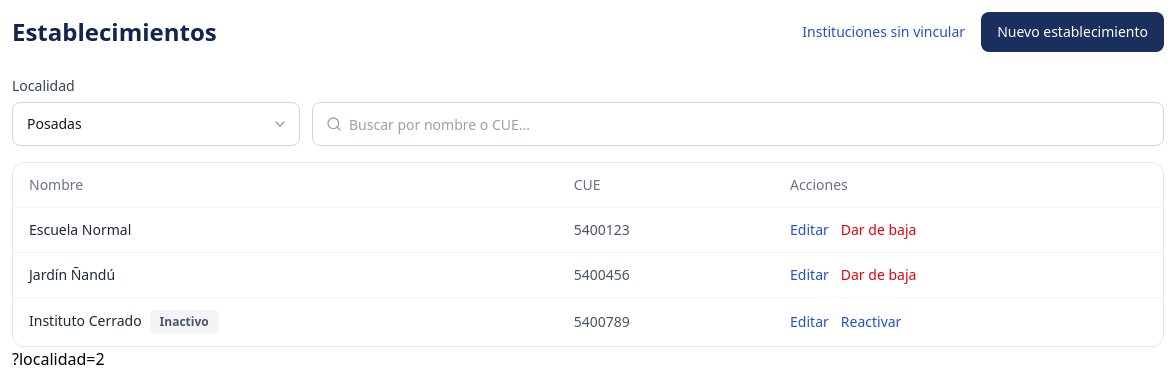
Test: EstablecimientosPage: lista (criterio 7) › busca por nombre sin distinguir mayúsculas ni tildes
Type "NANDU" into the field labelled "Buscar por nombre o CUE". click: point(738, 124)
box: [312,102,1164,146]
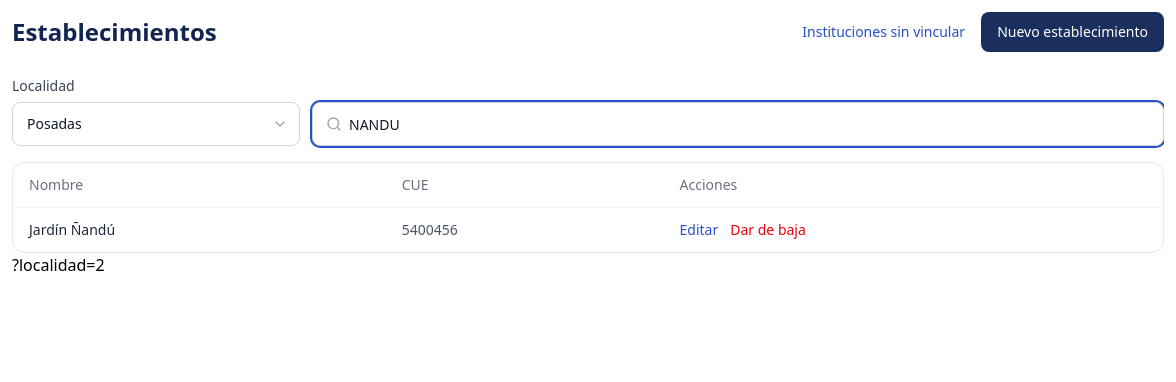
Check: the row "Jardín Ñandú 5400456 Editar Dar de baja" is shown, box [13,208,1163,252]
Check: the cell "Escuela Normal" is gone
